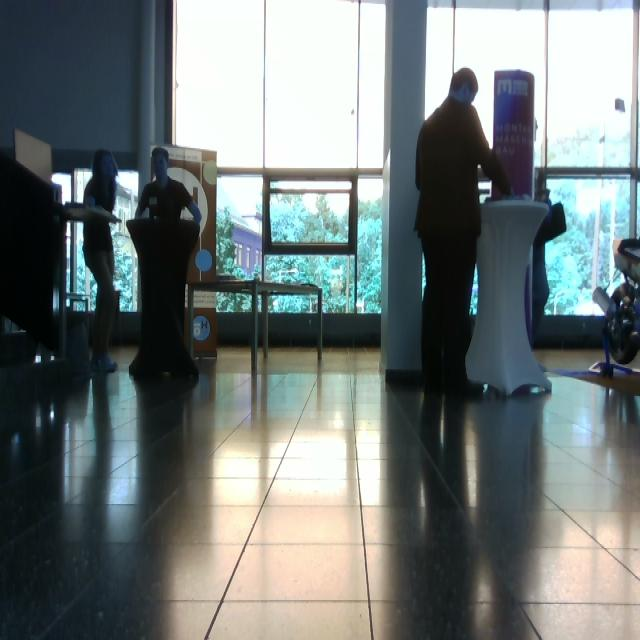light bulb: (615, 98, 626, 113)
person: (414, 68, 513, 398), (130, 146, 203, 381), (82, 149, 134, 373)
pillar: (381, 1, 428, 378)
tiled floor: (2, 343, 639, 639)
